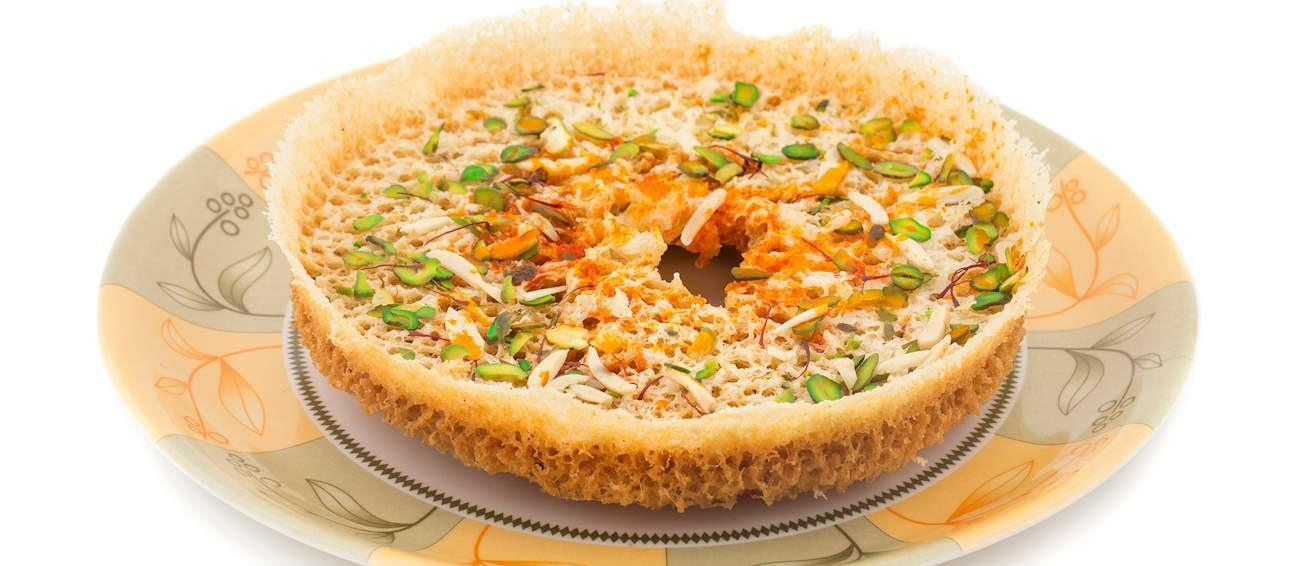Ghevar: (262, 8, 1057, 510)
